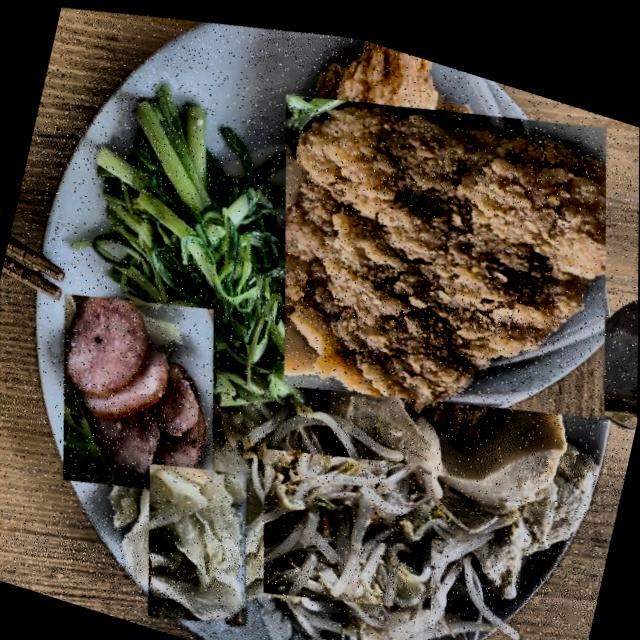Food: (201, 17, 640, 487), (38, 28, 349, 440), (25, 258, 253, 524), (237, 403, 458, 640), (108, 445, 286, 635)
